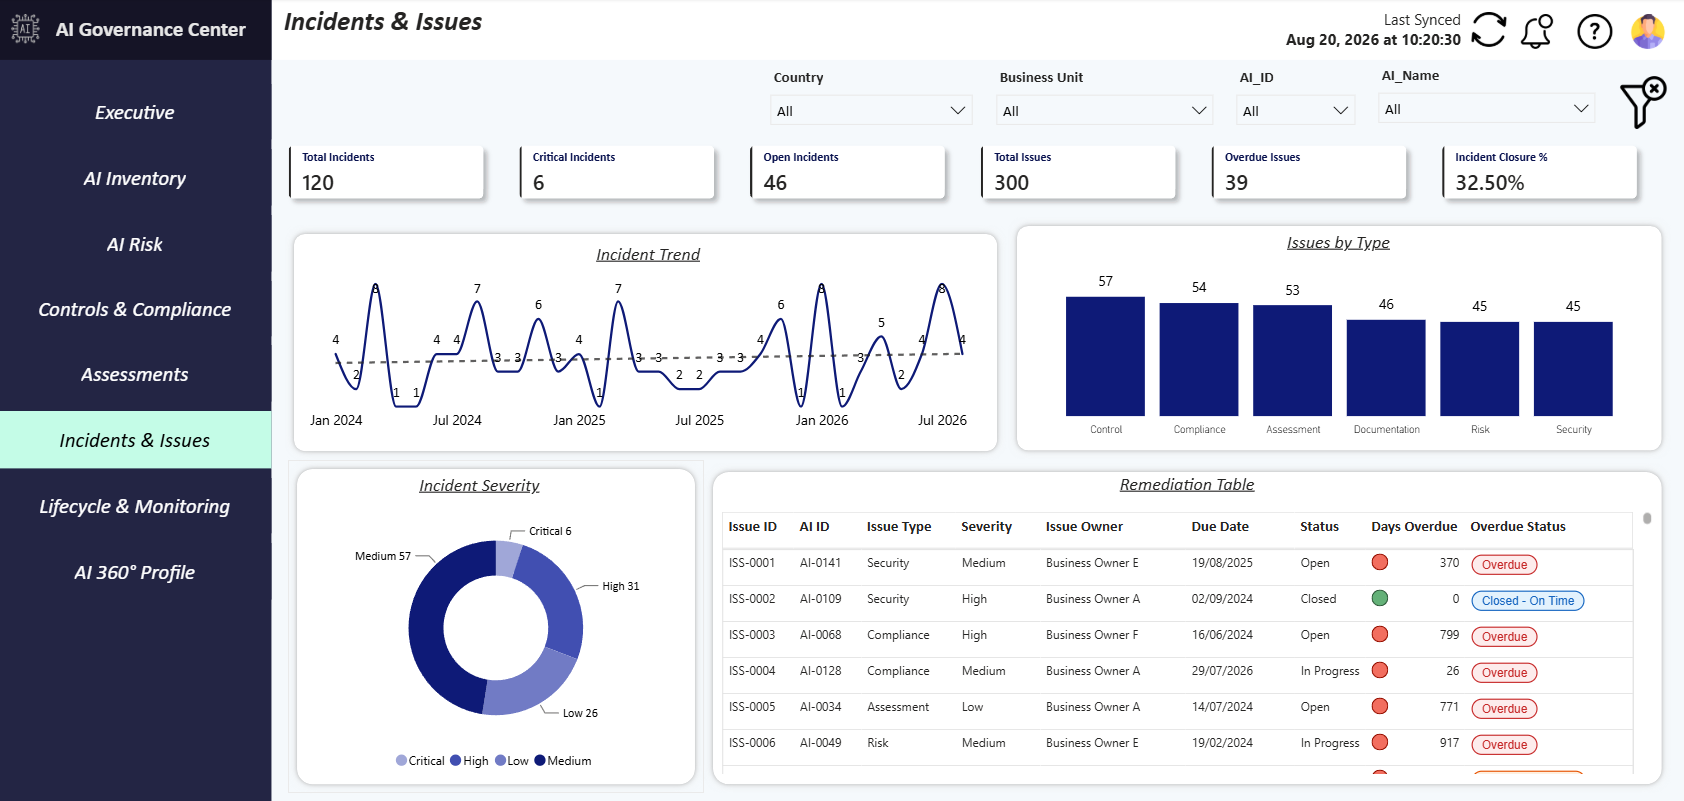

What the dashboard file says about the page in this screenshot:
{"tool":"powerbi","page":{"name":"Incidents & Issues","canvas":[1500,715],"ordinal":5},"visuals":[{"type":"shape","box":[0,0,1500,720.5],"z":0},{"type":"shape","box":[0,0,243.4,715.7],"z":1000},{"type":"shape","box":[0,0,243.4,55.2],"z":2000},{"type":"shape","box":[243.4,0,1256.6,55.2],"z":3000},{"type":"textbox","box":[46,10.2,186.1,33.7],"z":4000},{"type":"image","box":[1446.8,14.3,39.5,31.1],"z":5000},{"type":"image","box":[1347.6,14.3,38.6,31.1],"z":6000},{"type":"cardVisual","fields":{"Data":["_Measures.Total Incidents","_Measures.Critical Incidents","_Measures.Open Incidents","_Measures.Total Issues","_Measures (2).Overdue Issues","_Measures.Incident Closure %"]},"box":[229,102.2,1257.7,105.3],"z":7000},{"type":"shape","box":[257.3,410.5,369.7,296.3],"z":8000},{"type":"donutChart","fields":{"Category":["Fact_Incident.Severity"],"Y":["Count(Fact_Incident.Incident_ID)"]},"box":[271.2,451.4,342.7,243.3],"z":9000},{"type":"textbox","box":[331.6,418,192.4,38],"z":10000},{"type":"shape","box":[897.2,195,588.9,215.5],"z":11000},{"type":"clusteredColumnChart","fields":{"Category":["Fact_Issue.Issue_Type"],"Y":["CountNonNull(Fact_Issue.Issue_ID)"]},"box":[911.1,227.6,563.8,169],"z":12000},{"type":"textbox","box":[1073.7,201.5,235.4,37.7],"z":13000},{"type":"shape","box":[255.4,201.5,640.9,209],"z":14000},{"type":"lineChart","fields":{"Category":["Calander Table.Year_Month"],"Y":["_Measures.Total Incidents"]},"box":[271.2,239.6,613,153.3],"z":15000},{"type":"shape","box":[626.9,413.3,859.1,293.5],"z":16000},{"type":"tableEx","fields":{"Values":["Fact_Issue.Issue_ID","Fact_Issue.AI_ID","Fact_Issue.Issue_Type","Fact_Issue.Severity","Fact_Issue.Issue_Owner","Fact_Issue.Due_Date","Fact_Issue.Status","Fact_Issue.Days Overdue","_Measures.Chip_Overdue Status"]},"box":[637.2,451.4,837.8,243.3],"z":17000},{"type":"textbox","box":[464.4,212.7,226,38],"z":18000},{"type":"textbox","box":[943.7,417,226,38],"z":19000},{"type":"image","box":[9.2,14.3,30.7,25.6],"z":20000},{"type":"image","box":[1399.8,14.3,39,31],"z":21000},{"type":"textbox","box":[1100.7,5.1,204.2,44.9],"z":22000},{"type":"image","box":[1305,12.3,39,31],"z":23000},{"type":"shape","box":[0,76.2,242.9,49.5],"z":24000},{"type":"shape","box":[0,484,243,50],"z":25000},{"type":"shape","box":[0,426.5,243,49],"z":26000},{"type":"shape","box":[0,192.6,243,50],"z":27000},{"type":"shape","box":[0,367,243,51.1],"z":28000},{"type":"shape","box":[0,308.5,243,50],"z":29000},{"type":"shape","box":[0,251.1,243,49],"z":30000},{"type":"shape","box":[0,134.1,243,50],"z":31000},{"type":"image","box":[1439,68,46.8,49.5],"z":32000},{"type":"textbox","box":[249.2,0,223.5,60.9],"z":33000},{"type":"slicer","fields":{"Values":["AI_Inventory.Country"]},"box":[676.3,57.1,199.6,69.7],"z":34000},{"type":"slicer","fields":{"Values":["AI_Inventory.Business_Unit"]},"box":[876.9,56.6,213.1,70.4],"z":35000},{"type":"slicer","fields":{"Values":["AI_Inventory.AI_ID"]},"box":[1090,57.1,125.6,70.4],"z":36000},{"type":"slicer","fields":{"Values":["AI_Inventory.AI_Name"]},"box":[1216.6,55.2,213.1,70.4],"z":37000}]}

Visuals, with their boxes on the page's 1500x715 design canvas (x1, y1, x2, y2). These are canvas units, not pixel positions in the 1684x801 screenshot, which may show the page scaled, cropped or inside an application window:
shape: 0,0,1500,720
shape: 0,0,243,716
shape: 0,0,243,55
shape: 243,0,1500,55
textbox: 46,10,232,44
image: 1447,14,1486,45
image: 1348,14,1386,45
cardVisual - _Measures.Total Incidents x _Measures.Critical Incidents: 229,102,1487,208
shape: 257,410,627,707
donutChart - Fact_Incident.Severity x Count(Fact_Incident.Incident_ID): 271,451,614,695
textbox: 332,418,524,456
shape: 897,195,1486,410
clusteredColumnChart - Fact_Issue.Issue_Type x CountNonNull(Fact_Issue.Issue_ID): 911,228,1475,397
textbox: 1074,202,1309,239
shape: 255,202,896,410
lineChart - Calander Table.Year_Month x _Measures.Total Incidents: 271,240,884,393
shape: 627,413,1486,707
tableEx - Fact_Issue.Issue_ID x Fact_Issue.AI_ID: 637,451,1475,695
textbox: 464,213,690,251
textbox: 944,417,1170,455
image: 9,14,40,40
image: 1400,14,1439,45
textbox: 1101,5,1305,50
image: 1305,12,1344,43
shape: 0,76,243,126
shape: 0,484,243,534
shape: 0,426,243,476
shape: 0,193,243,243
shape: 0,367,243,418
shape: 0,308,243,358
shape: 0,251,243,300
shape: 0,134,243,184
image: 1439,68,1486,118
textbox: 249,0,473,61
slicer - AI_Inventory.Country: 676,57,876,127
slicer - AI_Inventory.Business_Unit: 877,57,1090,127
slicer - AI_Inventory.AI_ID: 1090,57,1216,128
slicer - AI_Inventory.AI_Name: 1217,55,1430,126
